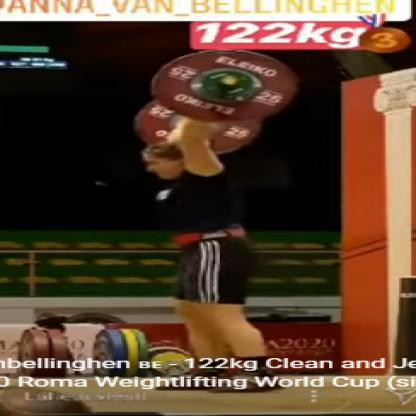Barbell: (216, 73, 247, 90)
